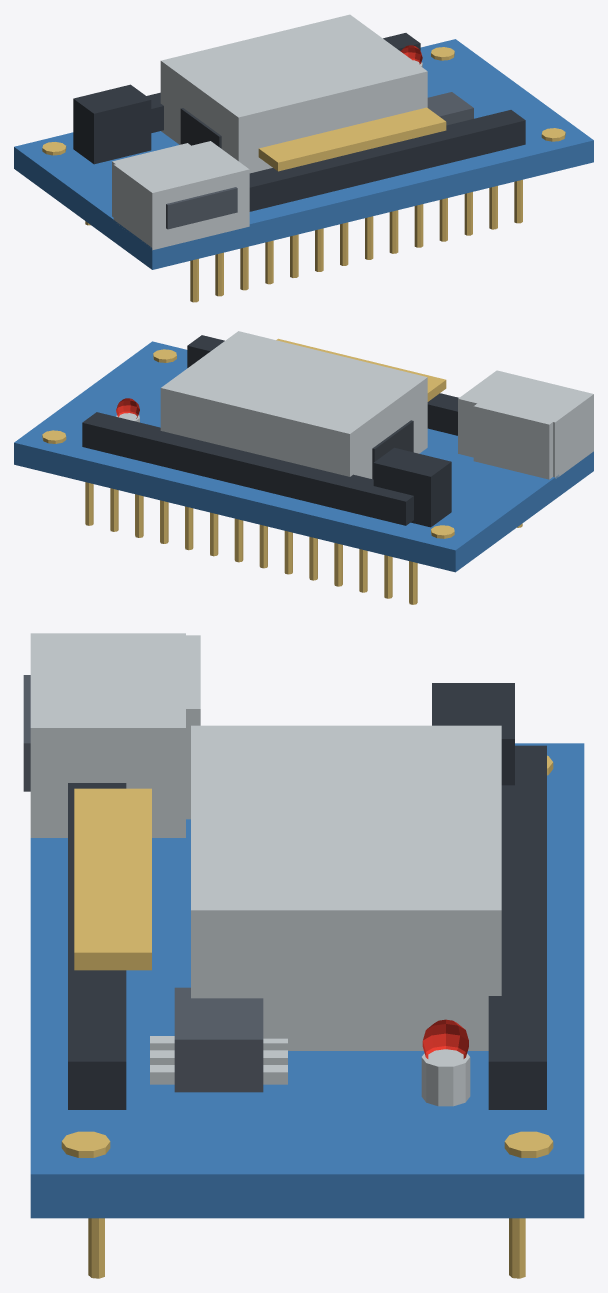
File: product-5.glb
The picture shows the model from 3 angles, top to bottom: view 1: azimuth 30°, elevation 25°; view 2: azimuth 150°, elevation 25°; view 3: azimuth 270°, elevation 25°; orthographic projection. The views are drawn at different scales.
Visible parts, largest first — view 1: product-5; view 2: product-5; view 3: product-5.
Part boxes in pixels (x1,y1,x2,y2): product-5: (14,14,593,302); product-5: (14,331,593,604); product-5: (23,633,584,1278).
Size of the model in its own units: 1.05 by 0.34 by 0.5772.
